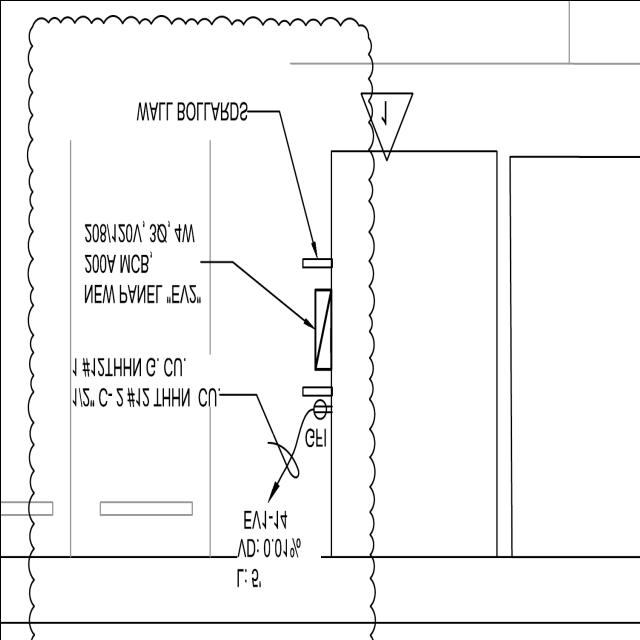gfi: (309, 395, 337, 419)
panel: (307, 280, 337, 374)
